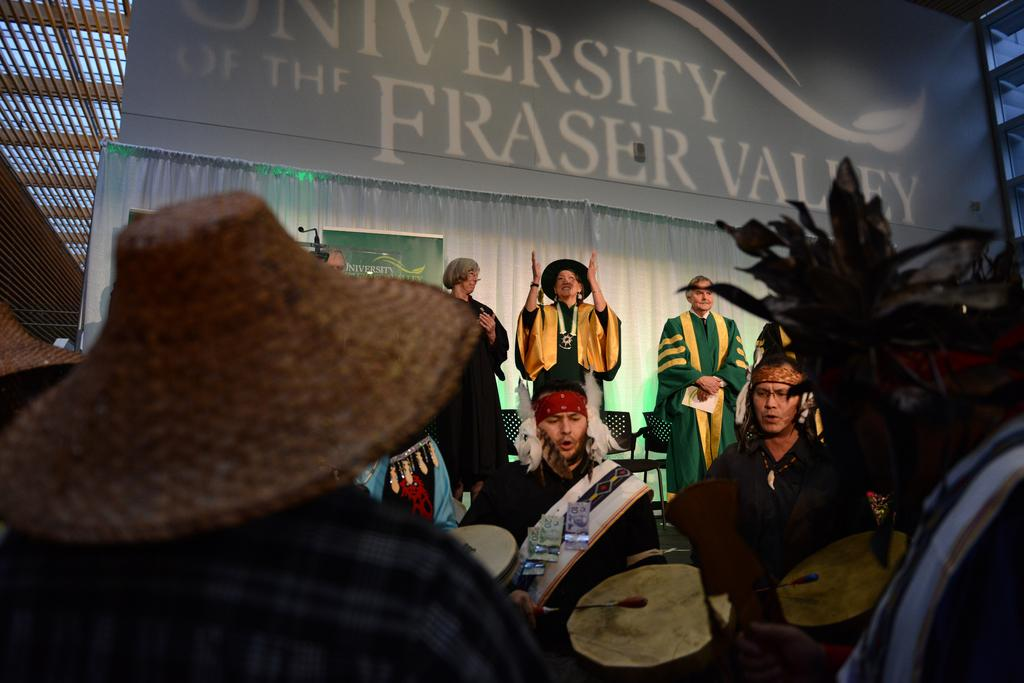Hat: (0, 190, 476, 544), (542, 260, 593, 298)
